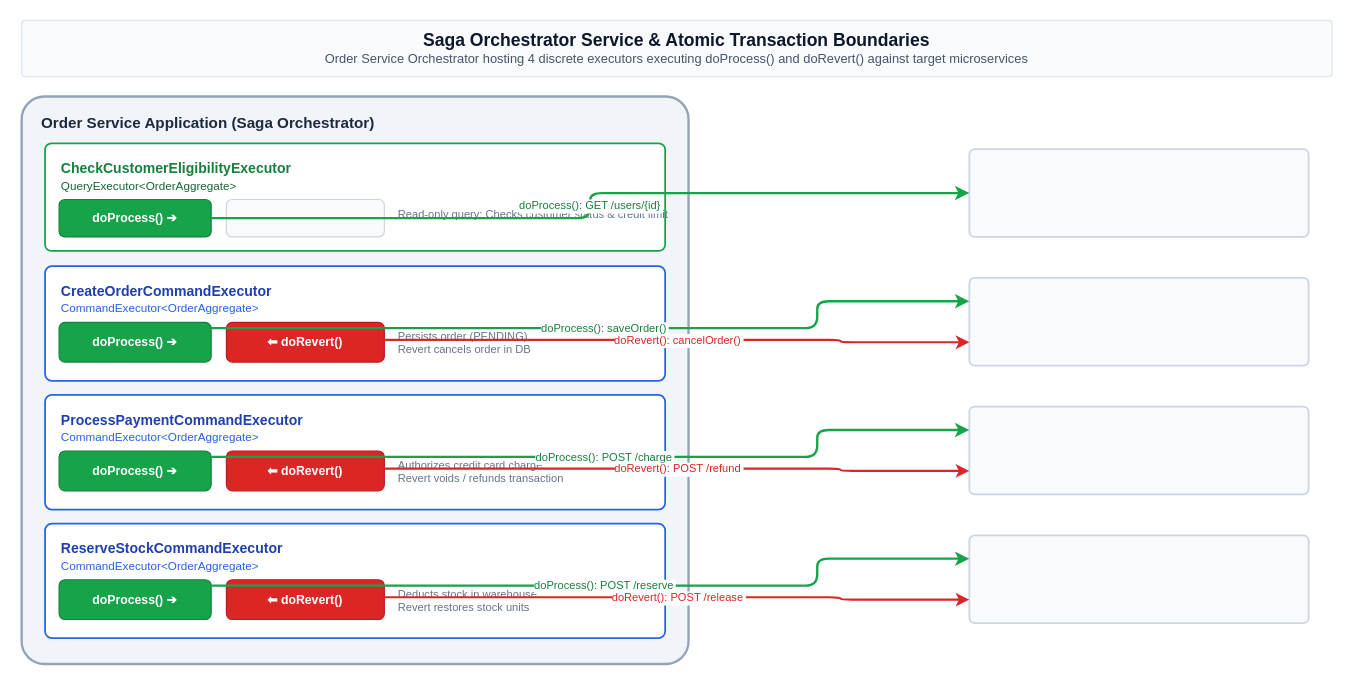
Some shapes in this 1353 by 686 pixel diagram are drawn without their labels. The shapes that lost their labels are listed below. From the top down, each one's centre as x and y in pixels, then its label:
At point 1138,192: "User Service User DB (PostgreSQL)".
At point 304,217: "[ doRevert: Skipped ]".
At point 1138,321: "Order Service (Local DB) Order DB (PostgreSQL ACID)".
At point 1138,450: "Payment Service / Gateway Stripe / Bank REST API".
At point 1138,578: "Inventory Service Warehouse DB (MySQL)".
